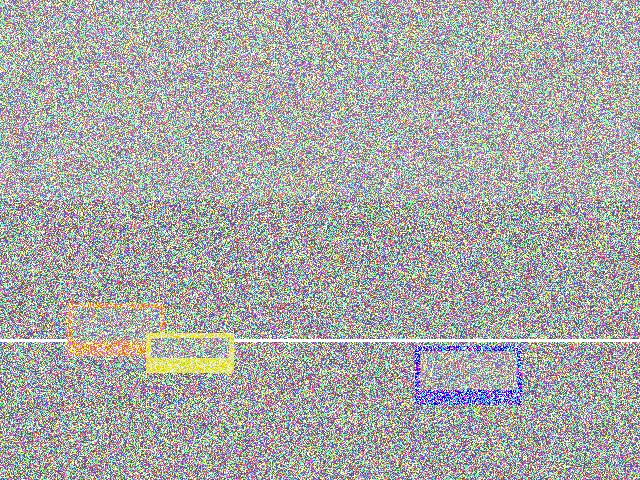bus: (342, 129, 461, 252)
